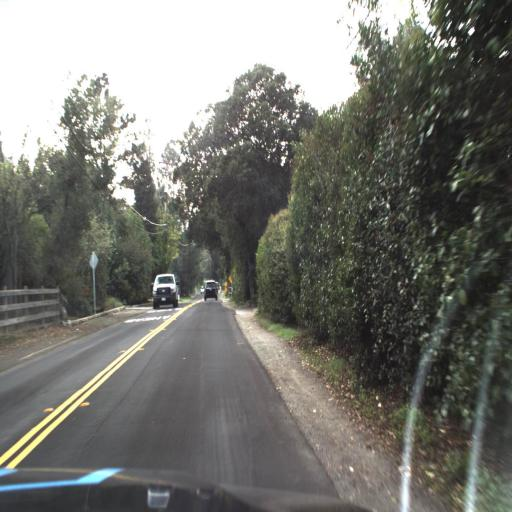car: (150, 272, 179, 311), (203, 277, 220, 305)
